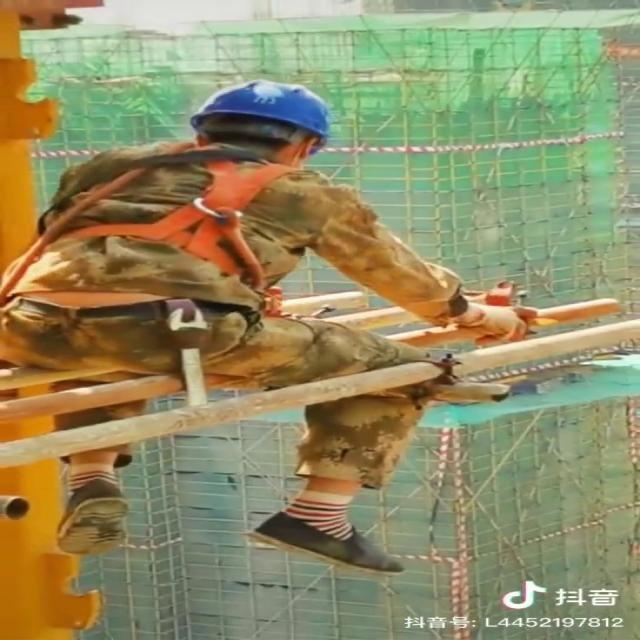Arnes_seguridad: (15, 138, 326, 306)
